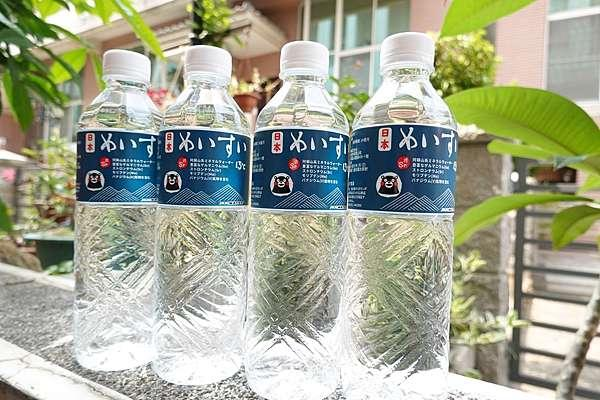plastic: (245, 41, 348, 396), (348, 32, 457, 367), (152, 46, 250, 383), (74, 49, 160, 368)
